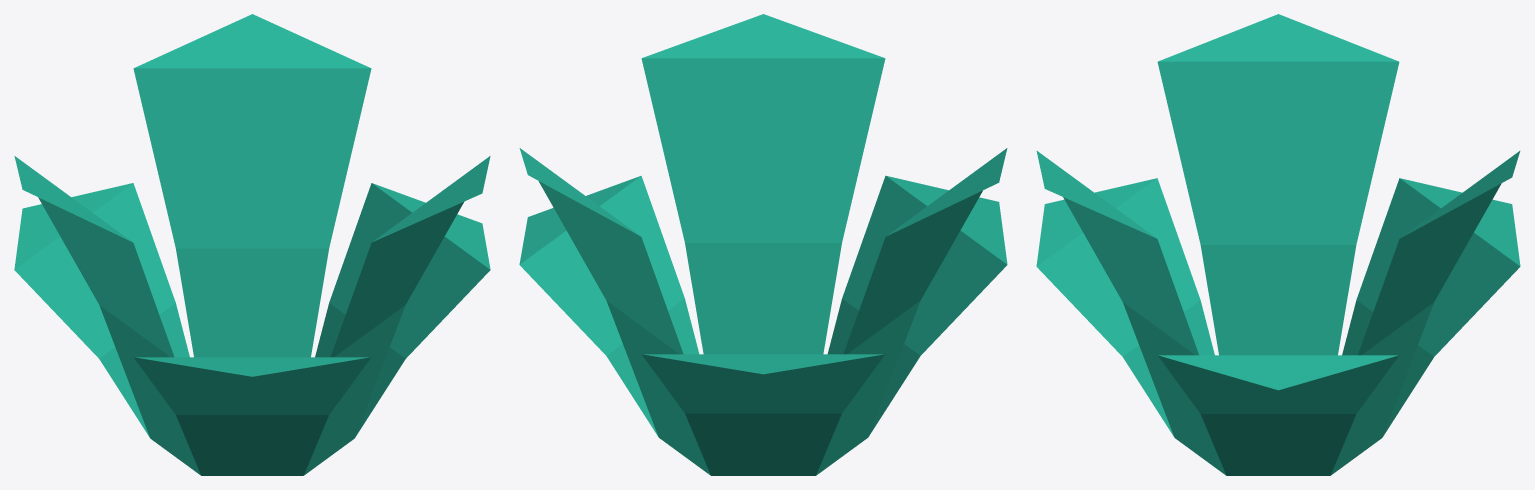
The model's file is bush.glb.
3 renders of one model, left to right at view 1: azimuth 30°, elevation 25°; view 2: azimuth 150°, elevation 25°; view 3: azimuth 270°, elevation 25°, orthographic. The views are drawn at different scales.
Parts seen in each view (by area): view 1: plant_bushLarge; view 2: plant_bushLarge; view 3: plant_bushLarge.
Boxes of the visible parts, x1,y1,x2,y2 form: plant_bushLarge: [14, 14, 490, 475]; plant_bushLarge: [519, 14, 1007, 475]; plant_bushLarge: [1036, 14, 1520, 475].
Bounding box in the file's own units: 0.3743 × 0.2429 × 0.3357.
